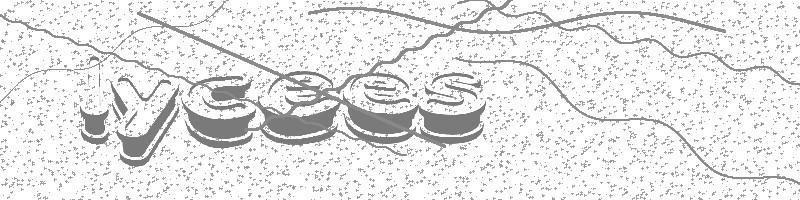c: (181, 75, 257, 150)
e: (258, 70, 340, 145), (343, 70, 419, 146)
l: (79, 54, 111, 145)
s: (420, 72, 487, 146)
y: (111, 77, 179, 167)
